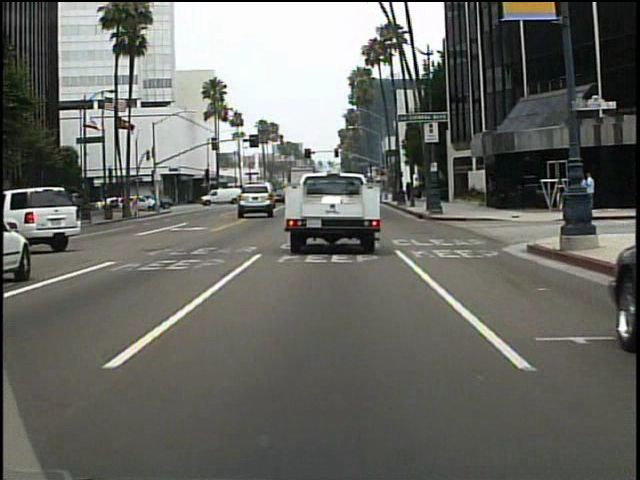person: (582, 169, 599, 217), (576, 172, 589, 216), (145, 191, 159, 217)
